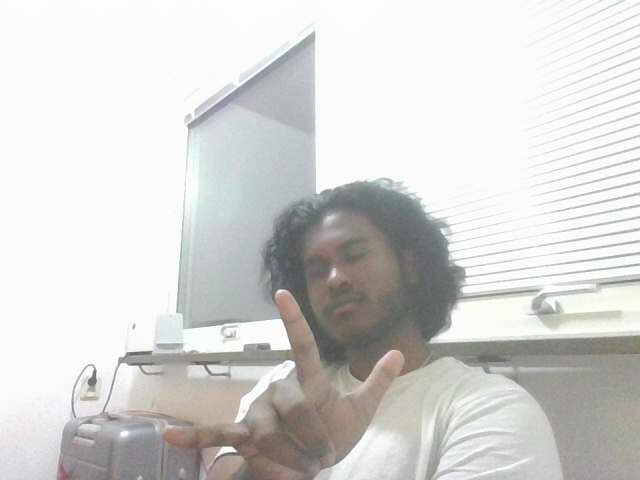I Love You: (169, 284, 407, 480)
